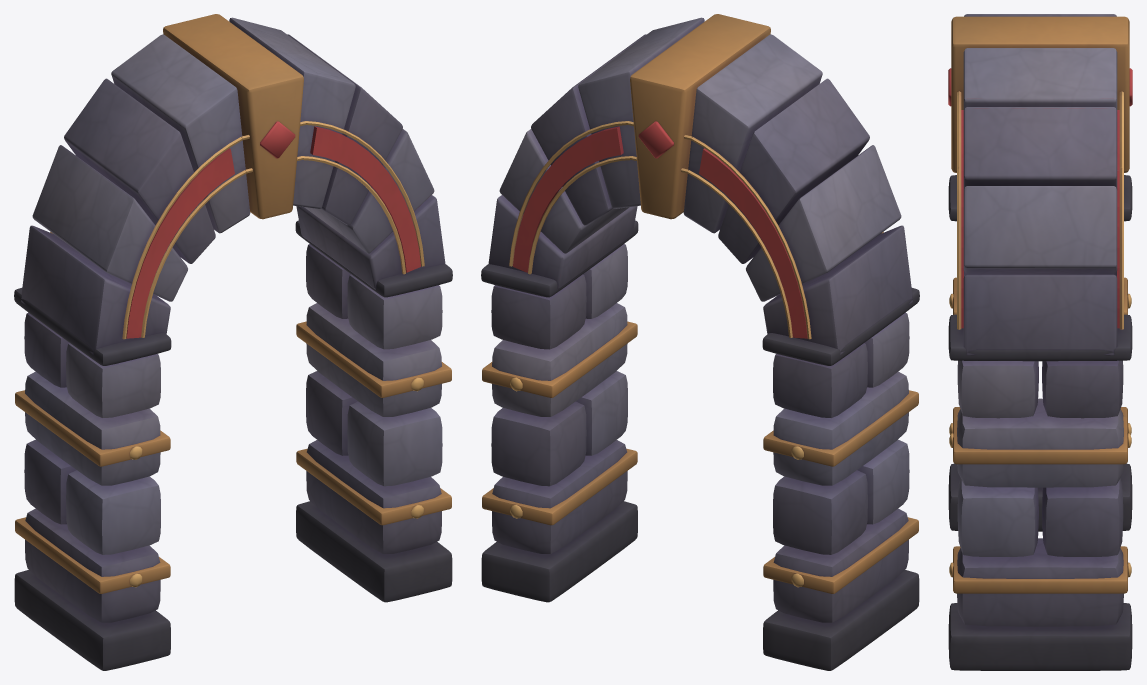
Rendered from EF_G02_BasaltGoalArch.fbx.
3 renders of one model, left to right at view 1: azimuth 30°, elevation 25°; view 2: azimuth 150°, elevation 25°; view 3: azimuth 270°, elevation 25°, orthographic.
Visible parts, largest first — view 1: Arch, Frame_L, Frame_R; view 2: Arch, Frame_L, Frame_R; view 3: Arch, Frame_R, Frame_L.
Boxes of the visible parts, x1,y1,x2,y2 form: Arch: [21, 14, 445, 354]; Frame_L: [14, 288, 171, 670]; Frame_R: [295, 220, 452, 602]; Arch: [488, 14, 912, 354]; Frame_L: [762, 288, 919, 670]; Frame_R: [481, 220, 638, 602]; Arch: [948, 14, 1132, 355]; Frame_R: [948, 314, 1132, 670]; Frame_L: [948, 175, 1132, 531].
Bounding box in the file's own units: 2.7 × 4 × 1.2.
